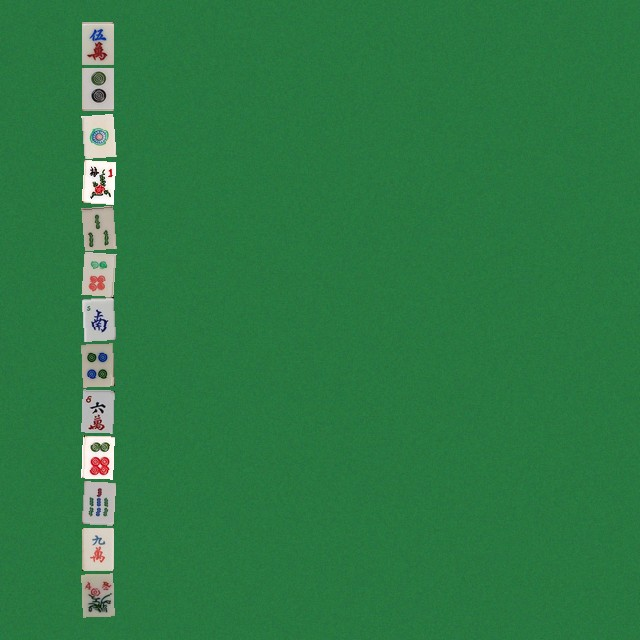tile: (81, 21, 113, 64), (81, 67, 113, 110), (81, 113, 113, 156), (81, 159, 113, 202), (81, 205, 113, 248), (81, 251, 113, 294), (81, 297, 113, 340), (81, 343, 113, 386), (81, 389, 113, 432), (81, 435, 113, 478), (81, 481, 113, 524), (81, 527, 113, 570), (81, 573, 113, 616)
